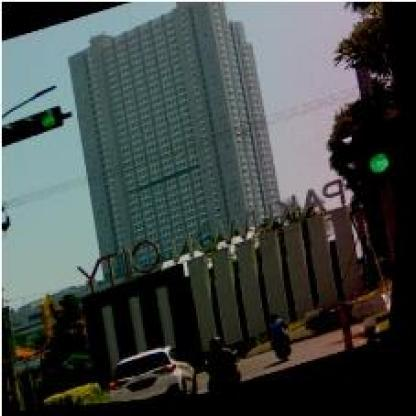green: (351, 99, 400, 194), (0, 104, 66, 148)
